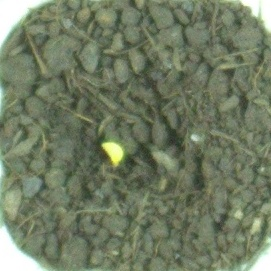chilli seed: (99, 139, 126, 168)
